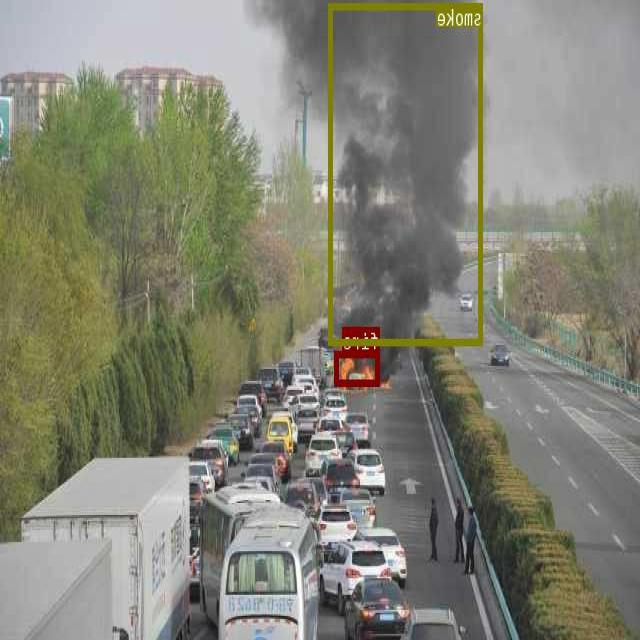fire: (336, 350, 380, 385)
smoke: (329, 3, 484, 343)
